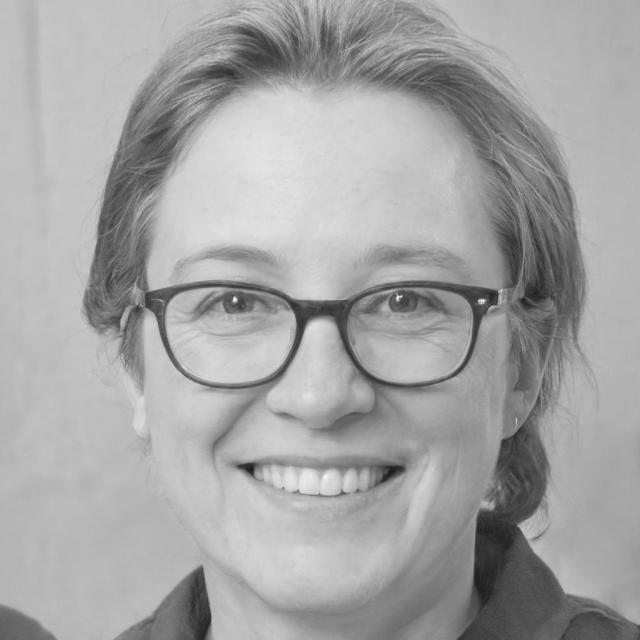lens: (346, 287, 474, 386), (166, 288, 295, 382)
